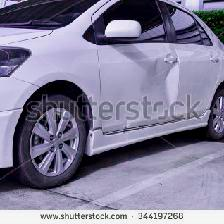door_dent: (149, 49, 193, 127)
